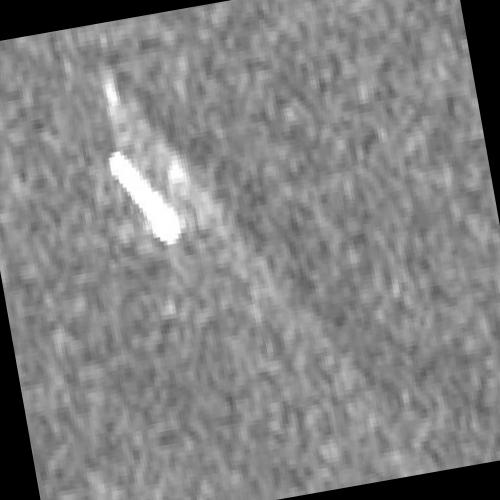ship: (107, 148, 182, 245)
